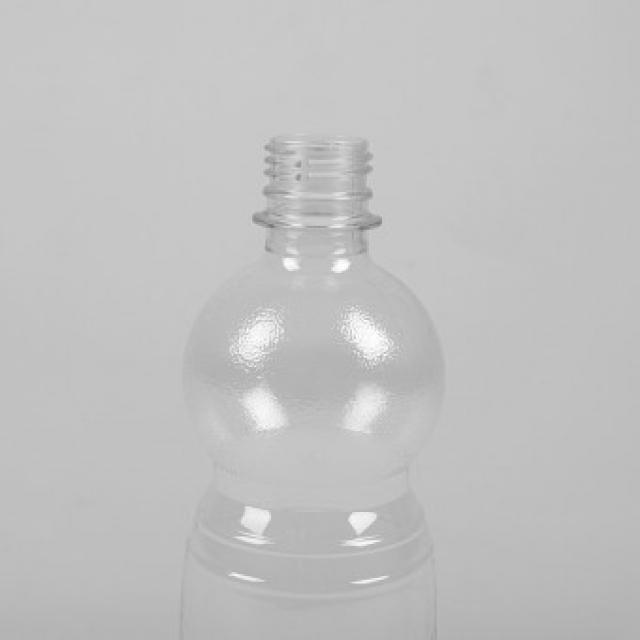bottle: (177, 132, 441, 640)
